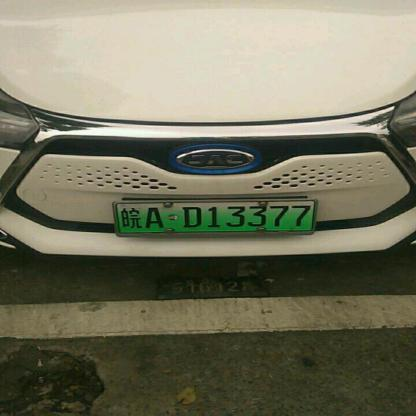lp: (114, 201, 314, 234)
